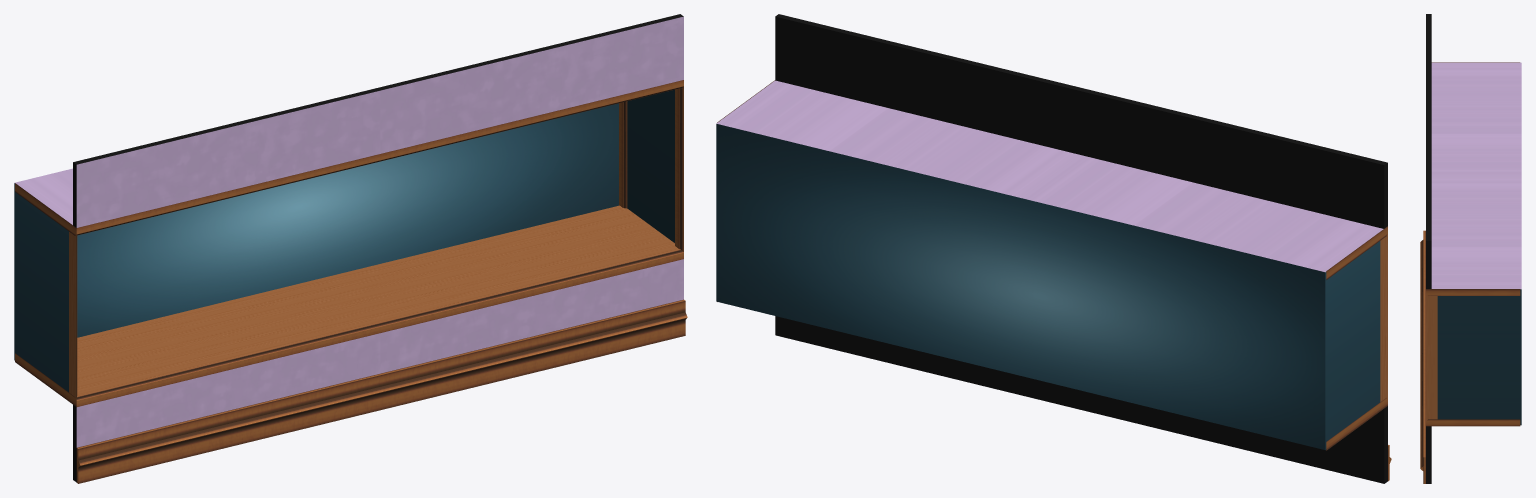
Rendered from Wall_Window_DoubleDisplay_A_07.FBX.
3 renders of one model, left to right at view 1: azimuth 30°, elevation 25°; view 2: azimuth 150°, elevation 25°; view 3: azimuth 270°, elevation 25°, orthographic. The views are drawn at different scales.
Parts seen in each view (by area): view 1: Wall_Window Display; view 2: Wall_Window Display; view 3: Wall_Window Display.
Boxes of the visible parts, left/top/right/bottom form: Wall_Window Display: left=14, top=14, right=687, bottom=483; Wall_Window Display: left=716, top=14, right=1391, bottom=483; Wall_Window Display: left=1420, top=14, right=1521, bottom=483.
Size of the model in its own units: 1000 by 500 by 189.
